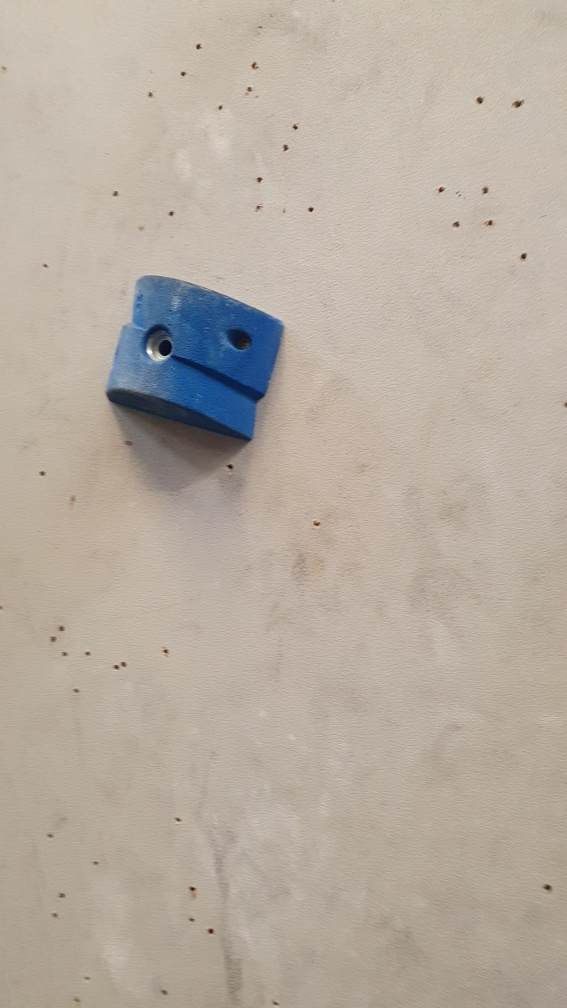Pinch: (104, 269, 289, 444)
